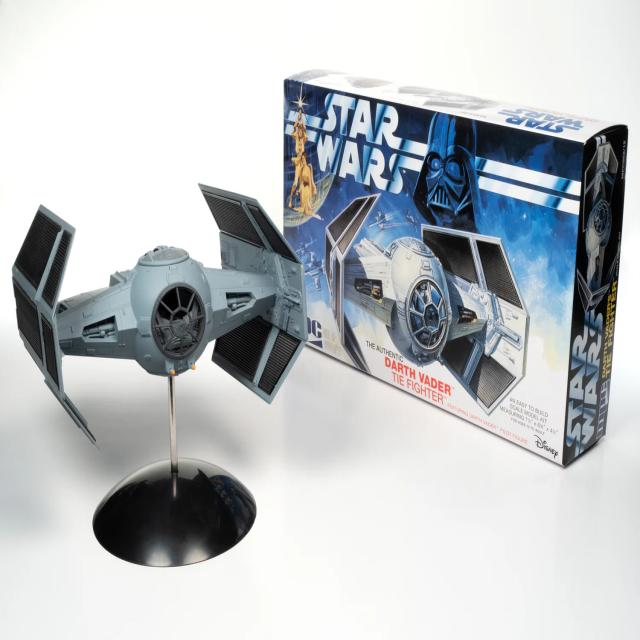tie fighter: (13, 184, 308, 442)
